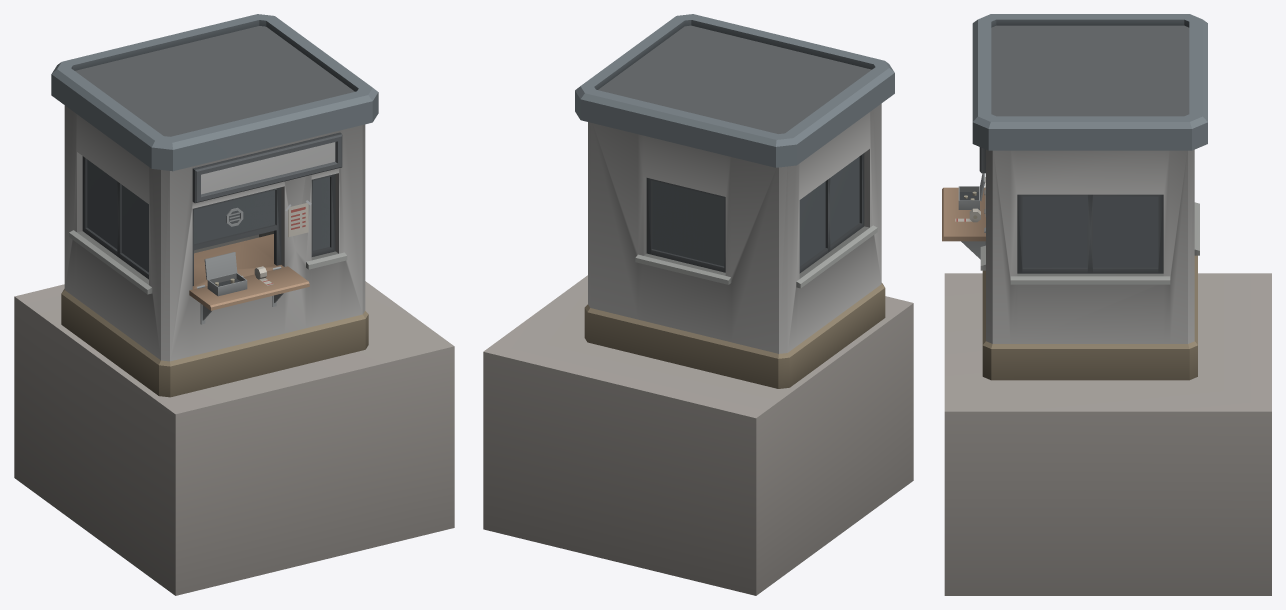
Rendered from ticket.glb.
The picture shows the model from 3 angles, left to right: view 1: azimuth 30°, elevation 25°; view 2: azimuth 150°, elevation 25°; view 3: azimuth 270°, elevation 25°; orthographic projection. The views are drawn at different scales.
Parts seen in each view (by area): view 1: ticket; view 2: ticket; view 3: ticket.
Boxes of the visible parts, x1=… form: ticket: x1=14, y1=14, x2=454, y2=595; ticket: x1=483, y1=14, x2=913, y2=595; ticket: x1=942, y1=14, x2=1271, y2=595.
Size of the model in its own units: 2.48 by 3.69 by 2.48.
